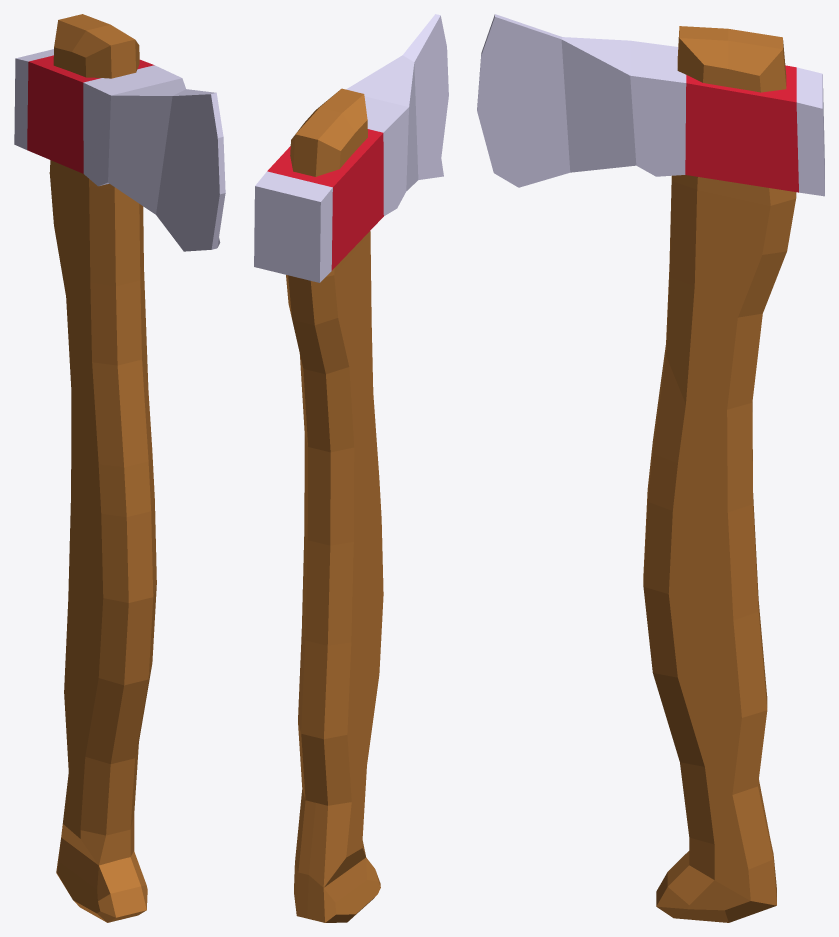
File: Axe.fbx
The picture shows the model from 3 angles, left to right: view 1: azimuth 30°, elevation 25°; view 2: azimuth 150°, elevation 25°; view 3: azimuth 270°, elevation 25°; orthographic projection. The views are drawn at different scales.
Visible parts, largest first — view 1: Handle, Blade; view 2: Handle, Blade; view 3: Handle, Blade.
Boxes of the visible parts, x1,y1,x2,y2 form: Handle: (49,14,156,922); Blade: (14,49,225,251); Handle: (286,88,383,922); Blade: (254,14,448,282); Handle: (643,26,796,922); Blade: (477,14,824,196).
Size of the model in its own units: 7 by 83.87 by 29.34.
